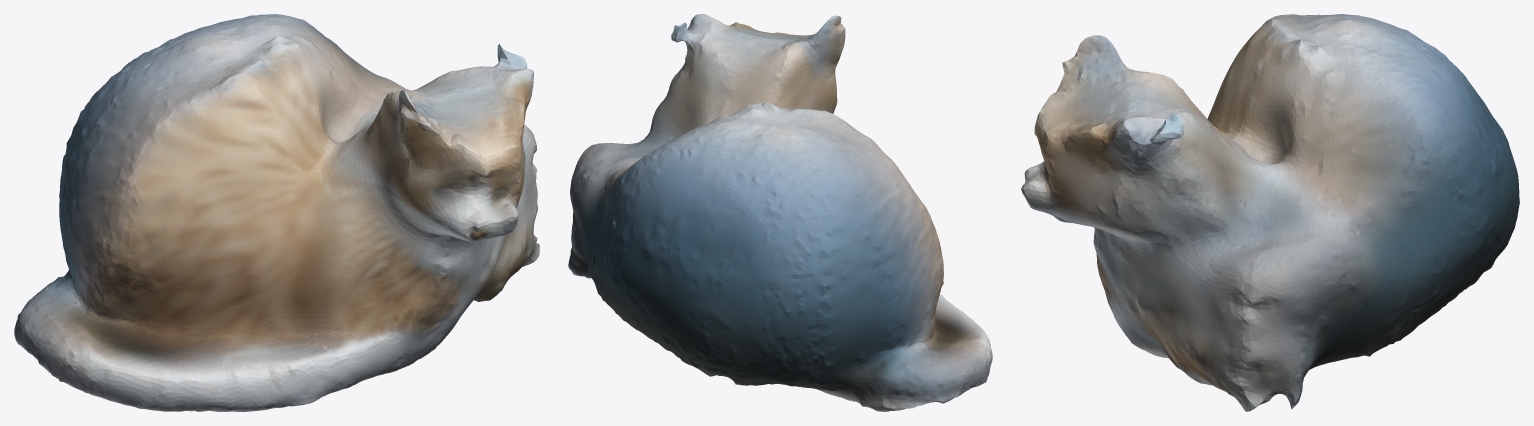
3 renders of one model, left to right at view 1: azimuth 30°, elevation 25°; view 2: azimuth 150°, elevation 25°; view 3: azimuth 270°, elevation 25°, orthographic. The views are drawn at different scales.
Bounding box in the file's own units: 1.02 × 0.627 × 0.908.
1 material, 1 textured.
